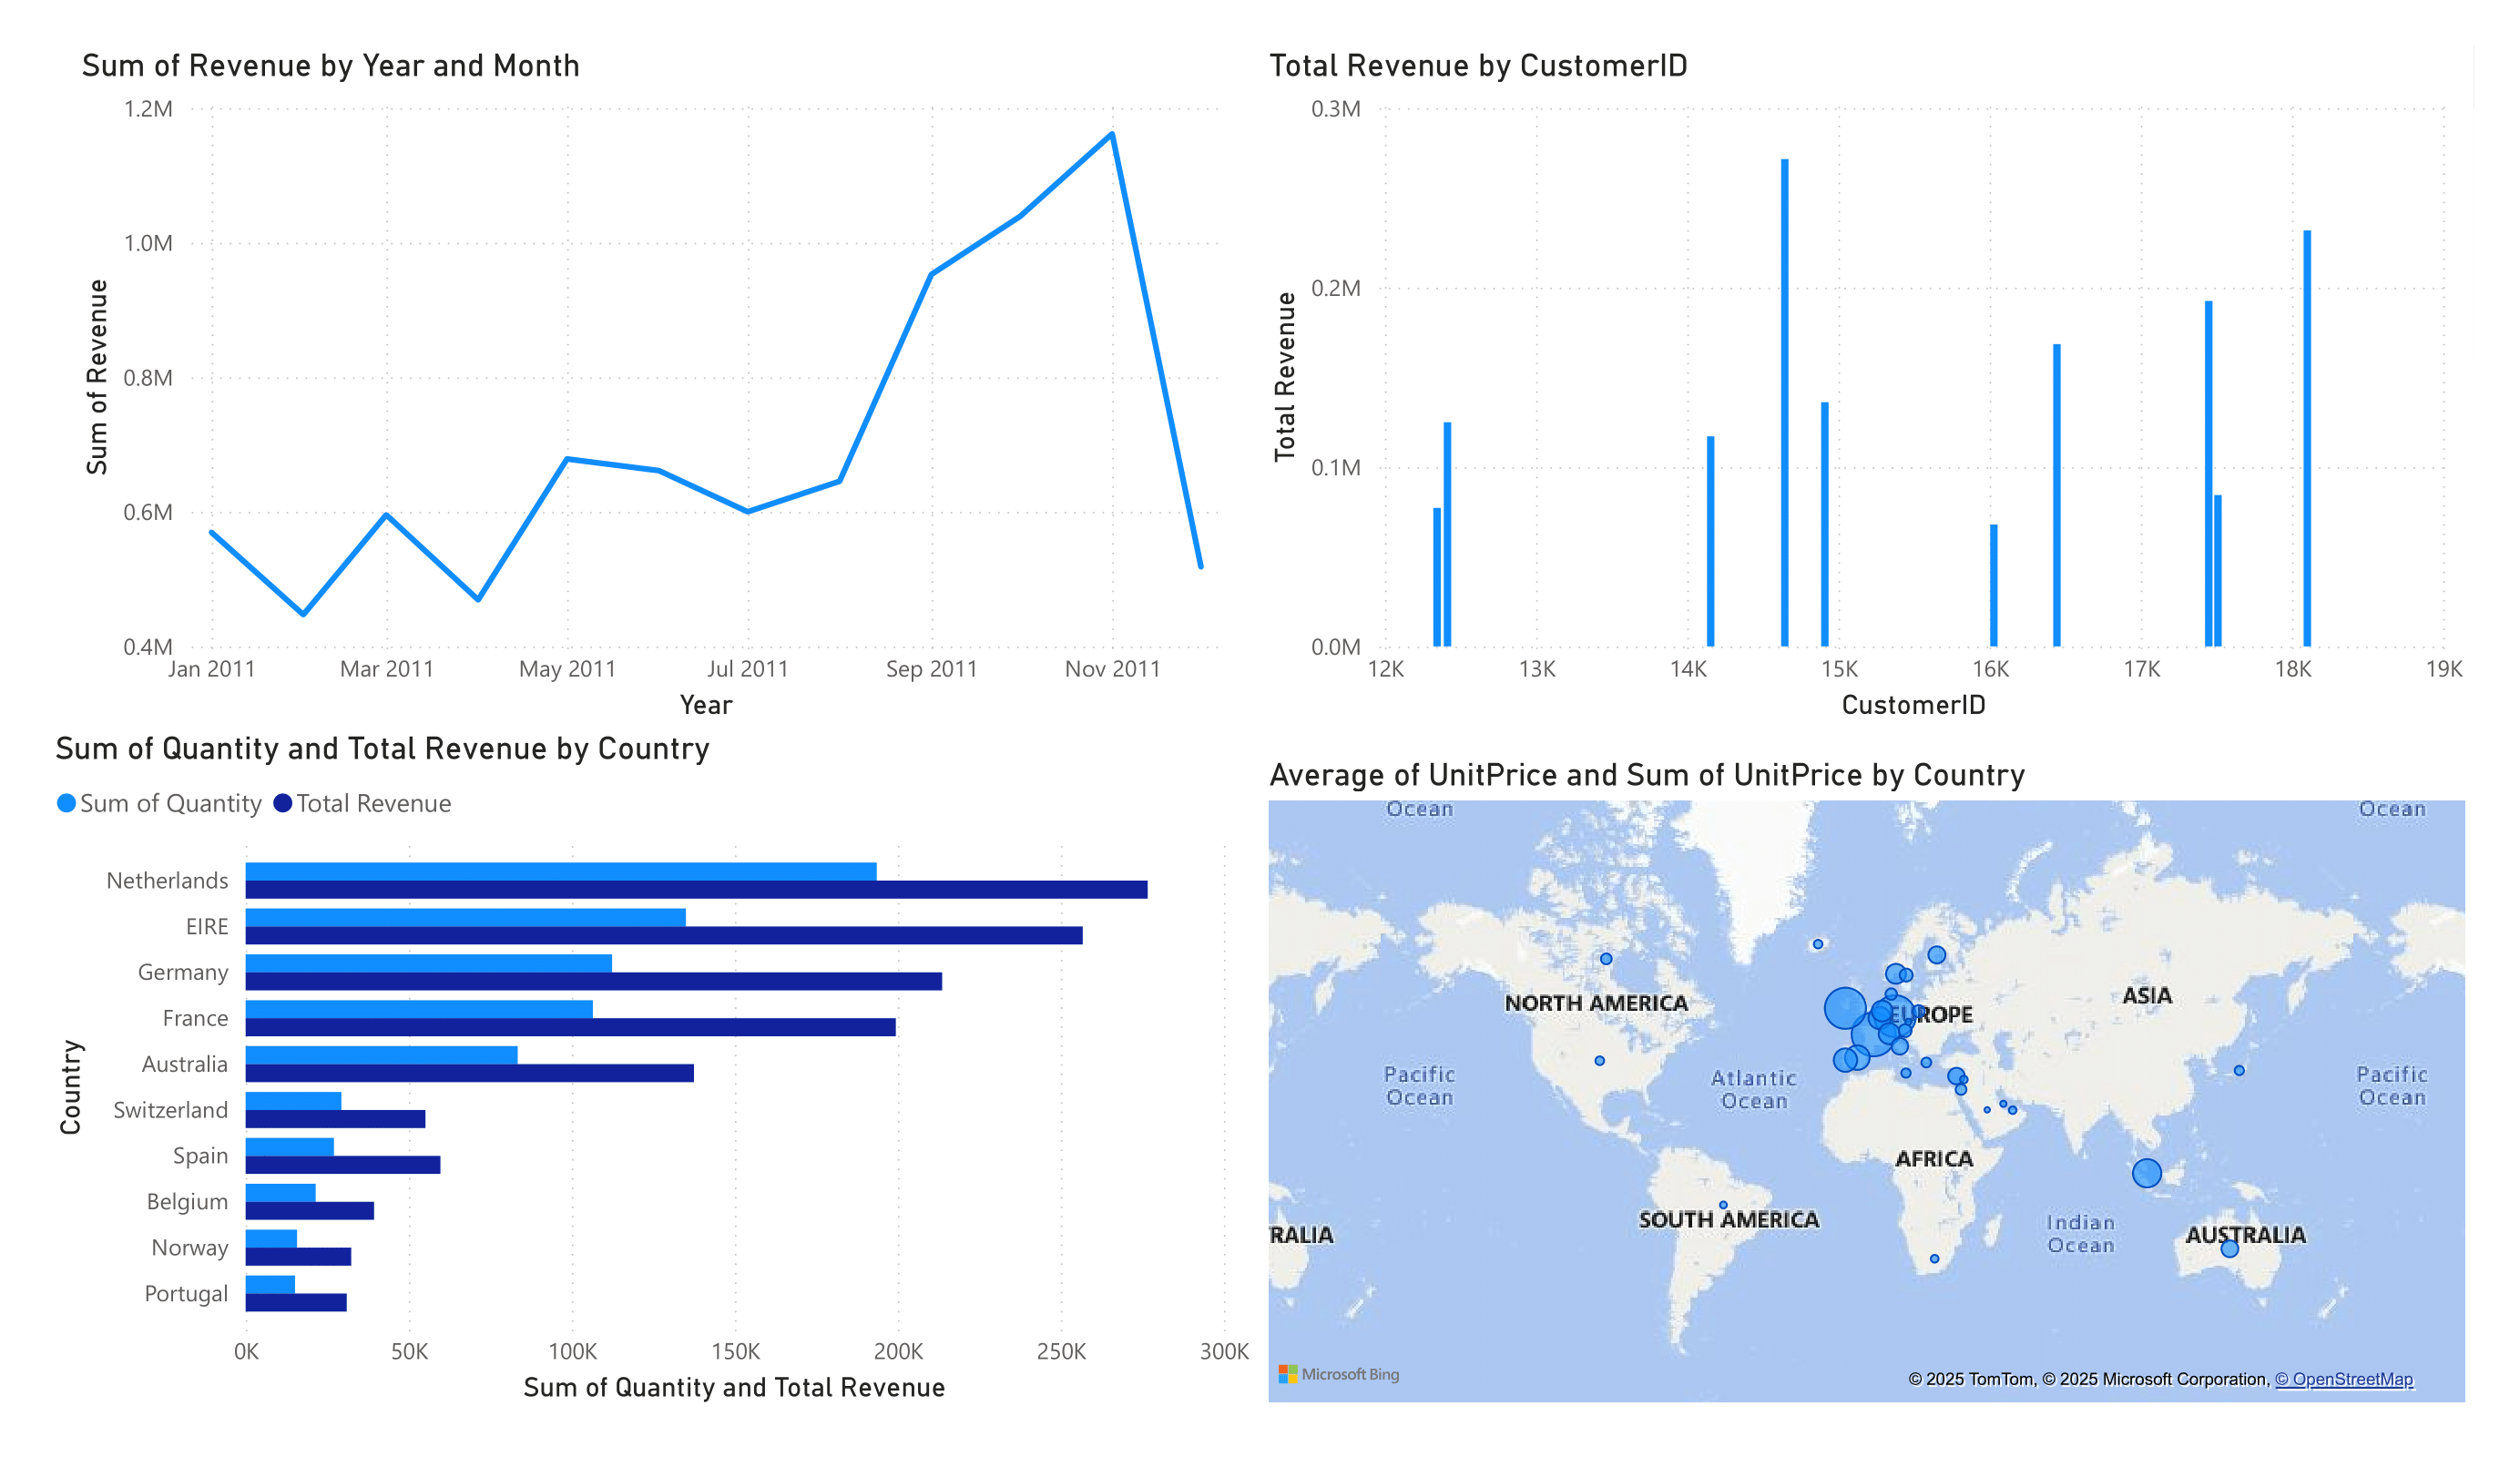

This screenshot's page, from the dashboard's own definition file:
{"tool":"powerbi","page":{"name":"Page 5","canvas":[1280,720],"ordinal":4},"visuals":[{"type":"lineChart","fields":{"Y":["Sum(Online Retail.Revenue)"],"Category":["Online Retail (2).InvoiceDate.Variation.Date Hierarchy.Year","Online Retail (2).InvoiceDate.Variation.Date Hierarchy.Month"]},"box":[14,0,626,360],"z":0},{"type":"clusteredBarChart","fields":{"Category":["Online Retail (2).Country"],"Y":["Sum(Online Retail (2).Quantity)","Online Retail.Total Revenue"]},"box":[0,360,640,360],"z":1000},{"type":"columnChart","fields":{"Category":["Online Retail.CustomerID"],"Y":["Online Retail.total revenue"]},"box":[640,0,640,360],"z":2000},{"type":"map","fields":{"Category":["Online Retail (2).Country"],"Y":["Avg(Online Retail (2).UnitPrice)"],"Size":["Sum(Online Retail (2).UnitPrice)"]},"box":[640,374,640,346],"z":3000}]}

Visuals, with their boxes in screenshot pixels (x1, y1, x2, y2):
lineChart - Sum(Online Retail.Revenue) x Online Retail (2).InvoiceDate.Variation.Date Hierarchy.Year: 72:46:1260:728
clusteredBarChart - Online Retail (2).Country x Sum(Online Retail (2).Quantity): 46:728:1260:1411
columnChart - Online Retail.CustomerID x Online Retail.total revenue: 1260:46:2474:728
map - Online Retail (2).Country x Avg(Online Retail (2).UnitPrice): 1260:755:2474:1411
